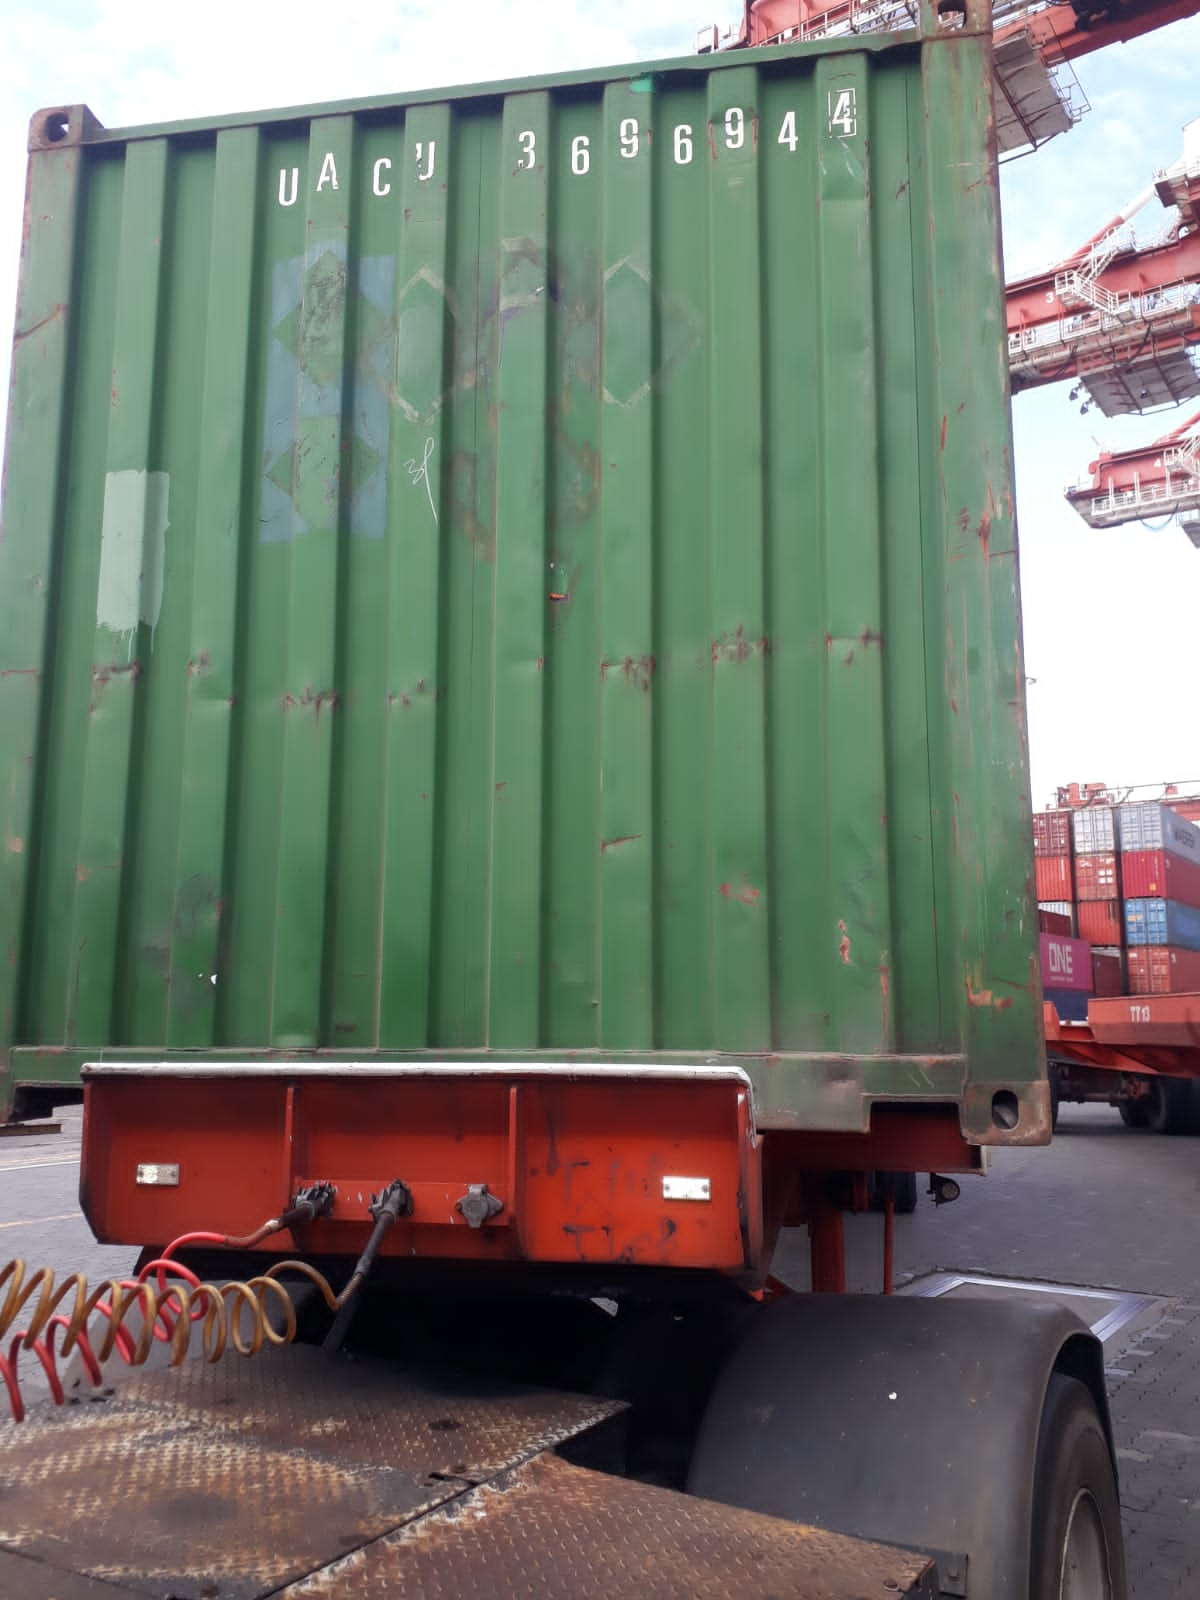moderate: (77, 609, 899, 747)
